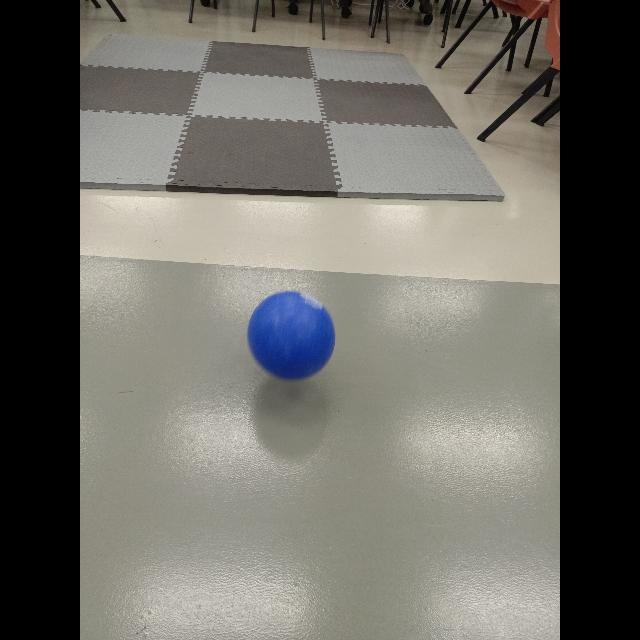B: (248, 290, 334, 380)
